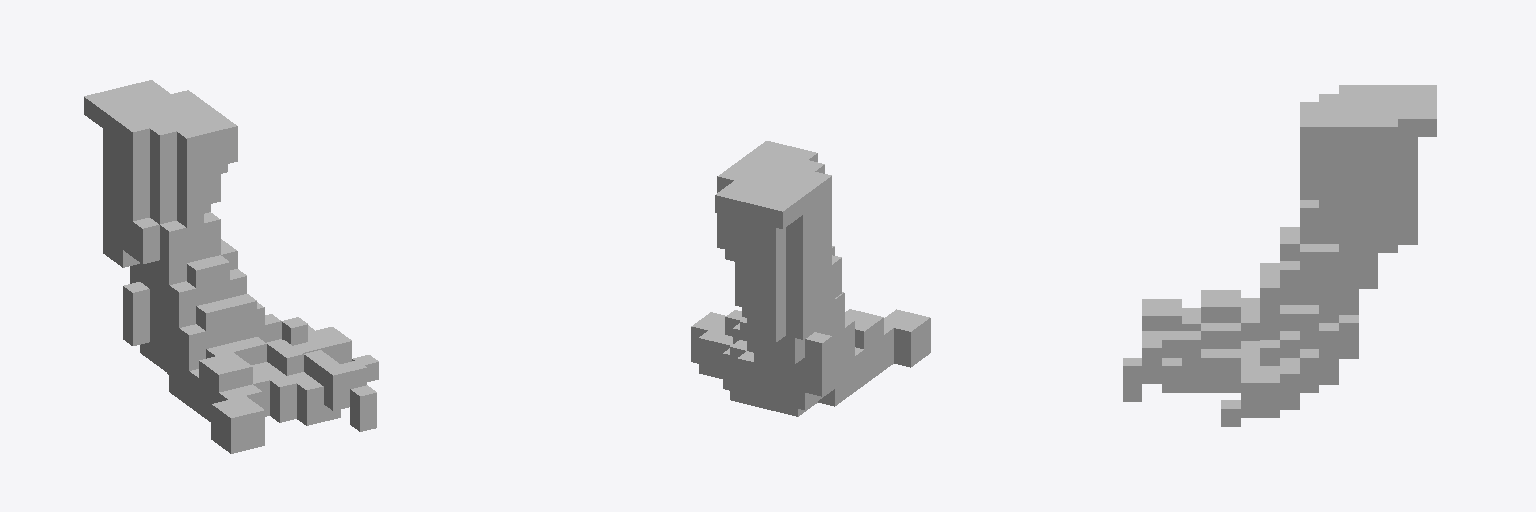
The model's file is dragon_left_foot.obj.
3 views of the same model, side by side, from view 1: azimuth 30°, elevation 25°; view 2: azimuth 150°, elevation 25°; view 3: azimuth 270°, elevation 25° (orthographic).
Visible parts, largest first — view 1: object 1; view 2: object 1; view 3: object 1.
Part boxes in pixels (x1,y1,x2,y2): object 1: (84, 80, 378, 453); object 1: (691, 141, 930, 416); object 1: (1123, 85, 1436, 426).
Size of the model in its own units: 1.1 by 1.4 by 1.6.